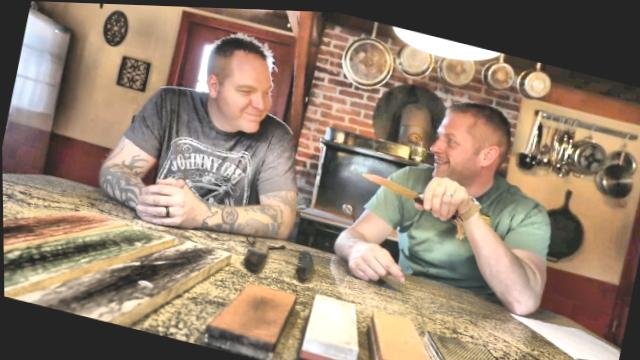knife: (352, 150, 463, 219)
